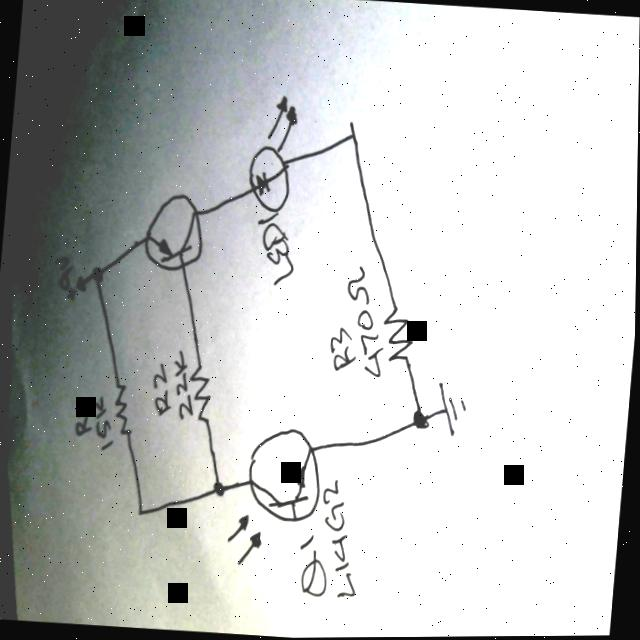diode: (241, 93, 302, 216)
ground: (430, 377, 473, 438)
junction: (411, 409, 429, 432), (89, 265, 106, 286), (345, 128, 360, 147), (212, 480, 226, 499), (135, 505, 148, 520)
resistor: (379, 305, 419, 367), (183, 362, 220, 425), (107, 379, 139, 441)
source: (71, 271, 93, 297)
text: (288, 470, 371, 609), (327, 261, 390, 385), (248, 209, 302, 290), (148, 348, 198, 424), (69, 392, 119, 455), (51, 254, 83, 303)
transistor: (224, 424, 328, 571), (140, 188, 211, 274)
